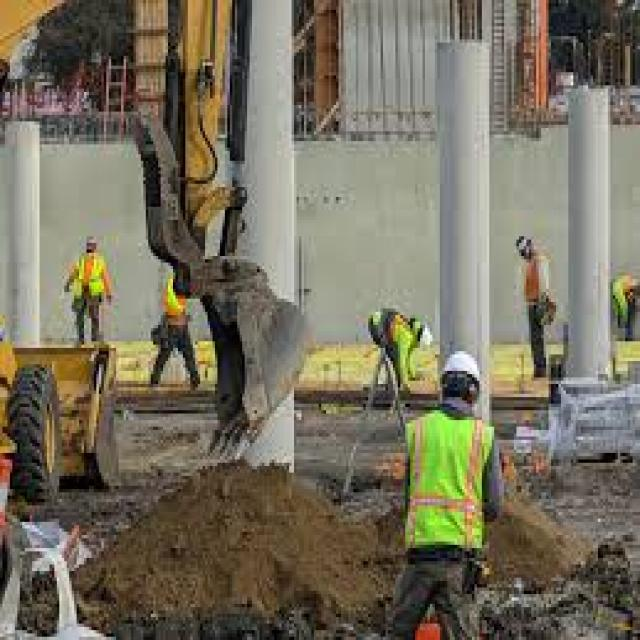Reflective-Jacket: (383, 407, 507, 578), (366, 309, 442, 410), (153, 269, 193, 335), (72, 250, 111, 306)
Safety-Helmet: (432, 341, 492, 404), (79, 230, 104, 252)
